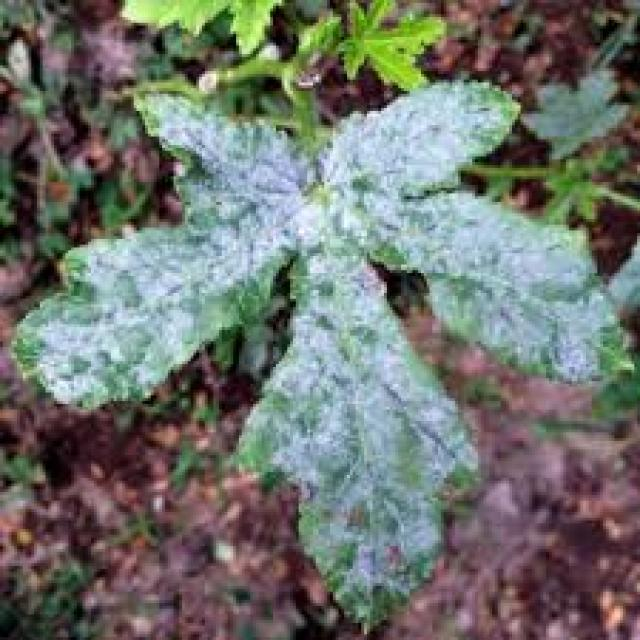powdery-mildew: (185, 124, 422, 250), (303, 283, 402, 578), (450, 224, 578, 350), (74, 239, 192, 367), (347, 104, 476, 180)
